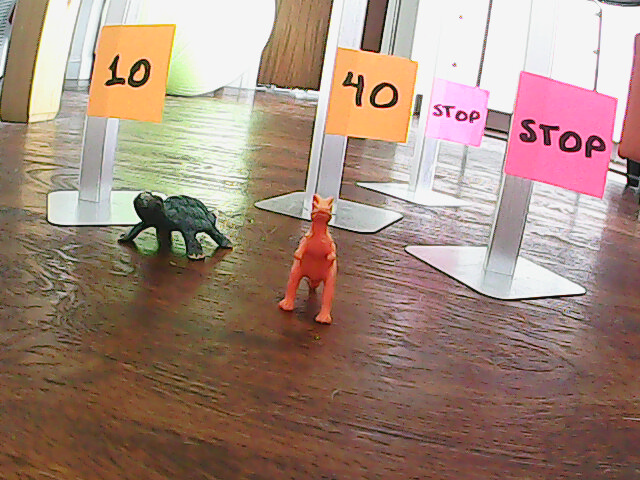10: (99, 29, 161, 115)
40: (335, 58, 403, 135)
dinosaur: (274, 190, 342, 329)
stop: (516, 90, 607, 184), (433, 90, 480, 143)
turtle: (117, 189, 240, 272)
